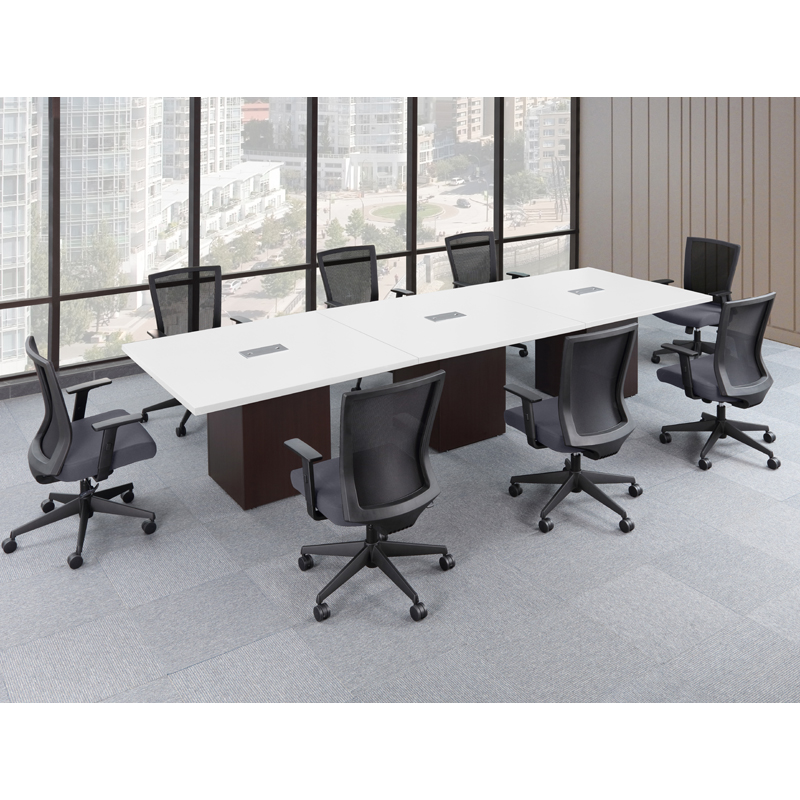conference_table: (121, 267, 713, 511)
